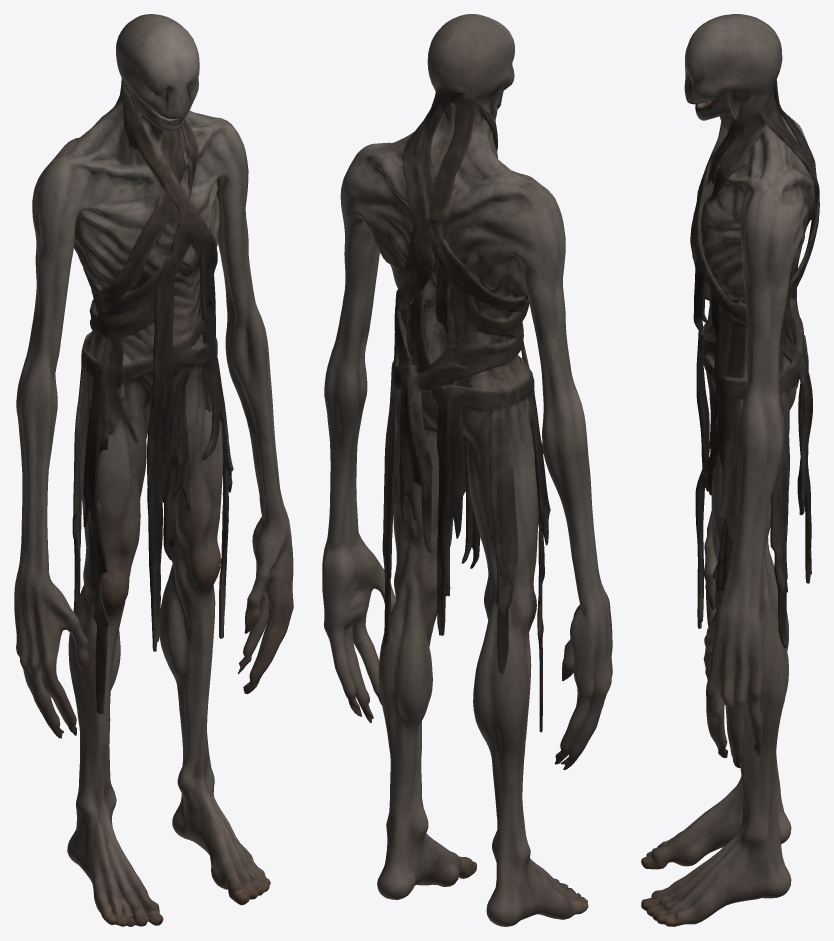
The model's file is monstre.glb.
3 views of the same model, side by side, from view 1: azimuth 30°, elevation 25°; view 2: azimuth 150°, elevation 25°; view 3: azimuth 270°, elevation 25° (orthographic). The views are drawn at different scales.
Parts seen in each view (by area): view 1: world; view 2: world; view 3: world.
Part boxes in pixels (box(x1,y1,x2,y2)): world: box(14, 14, 293, 926); world: box(322, 14, 612, 926); world: box(641, 14, 819, 926).
Bounding box in the file's own units: 0.326 × 1 × 0.1859.
1 material, 1 textured.
